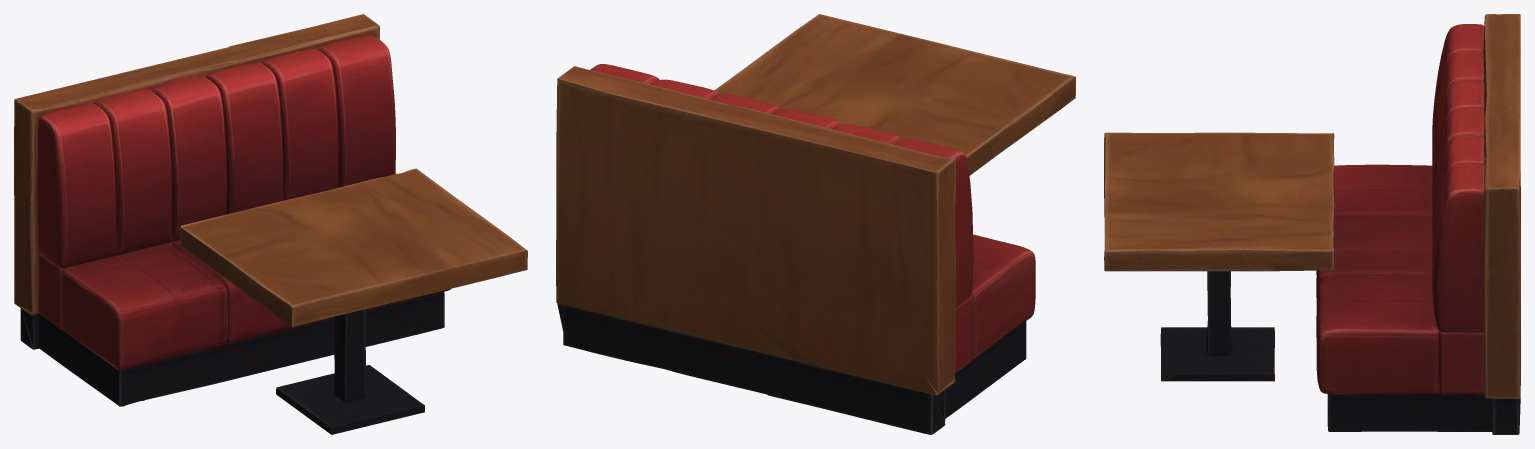
Rendered from booth.glb.
The picture shows the model from 3 angles, left to right: view 1: azimuth 30°, elevation 25°; view 2: azimuth 150°, elevation 25°; view 3: azimuth 270°, elevation 25°; orthographic projection. The views are drawn at different scales.
Size of the model in its own units: 1.89 by 1.27 by 1.9.
Materials: 1 (1 with a texture image).
